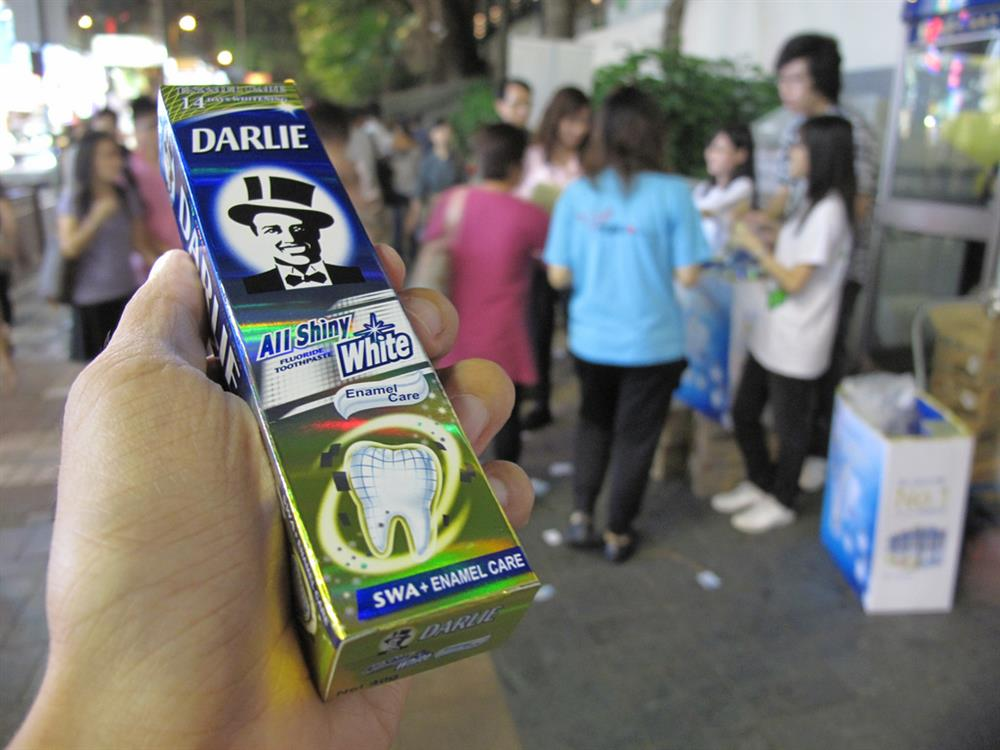darlie: (150, 83, 524, 637)
